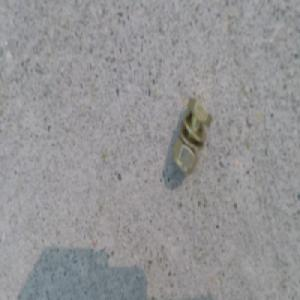BoltNutSet: (168, 101, 208, 177)
